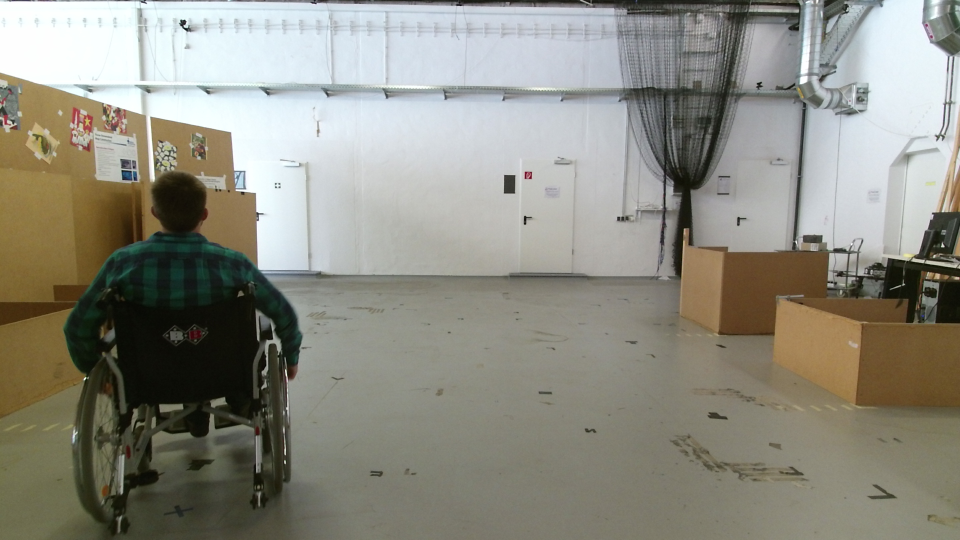wheelchair: (36, 157, 300, 540)
